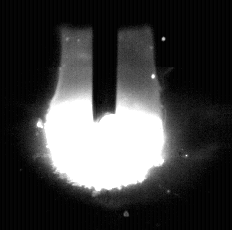arame: (93, 0, 119, 122)
poca: (45, 0, 165, 230)
